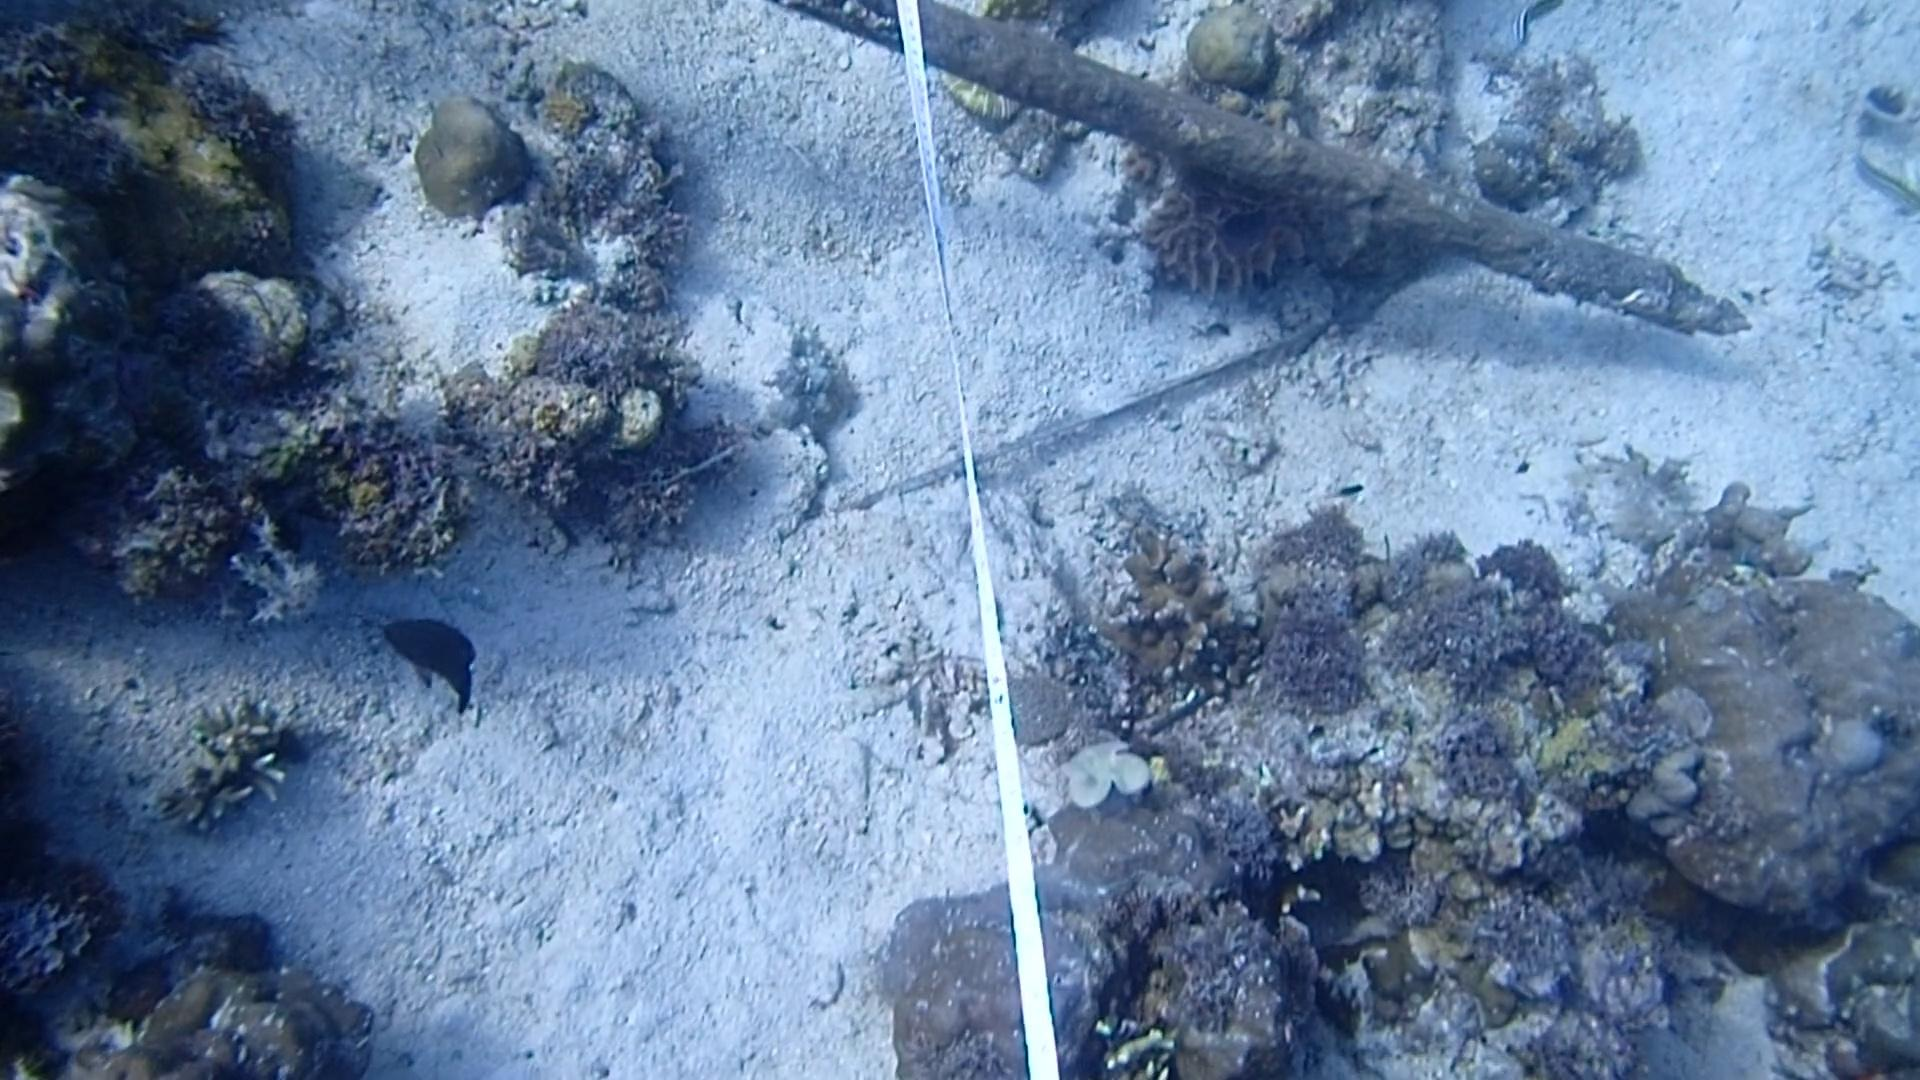Dark Fish: (368, 607, 509, 715)
Striped Fish: (1850, 144, 1920, 223)
